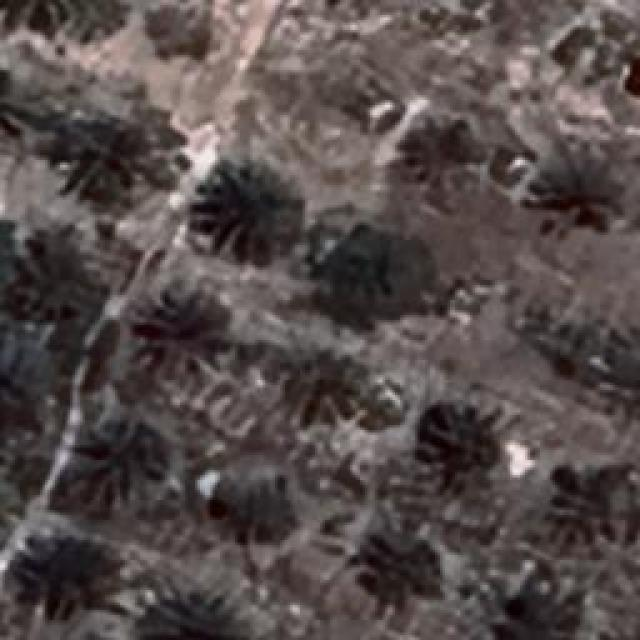PalmTree: (73, 75, 601, 510), (196, 160, 292, 262), (336, 231, 429, 324), (418, 408, 518, 488), (8, 230, 96, 318), (88, 432, 184, 508), (57, 111, 145, 191), (11, 535, 111, 605), (361, 528, 449, 604), (146, 288, 232, 364), (210, 474, 292, 552), (408, 114, 480, 202), (532, 148, 616, 222), (148, 600, 264, 640), (492, 592, 586, 640), (0, 328, 41, 430), (0, 52, 40, 146), (0, 0, 92, 40)
